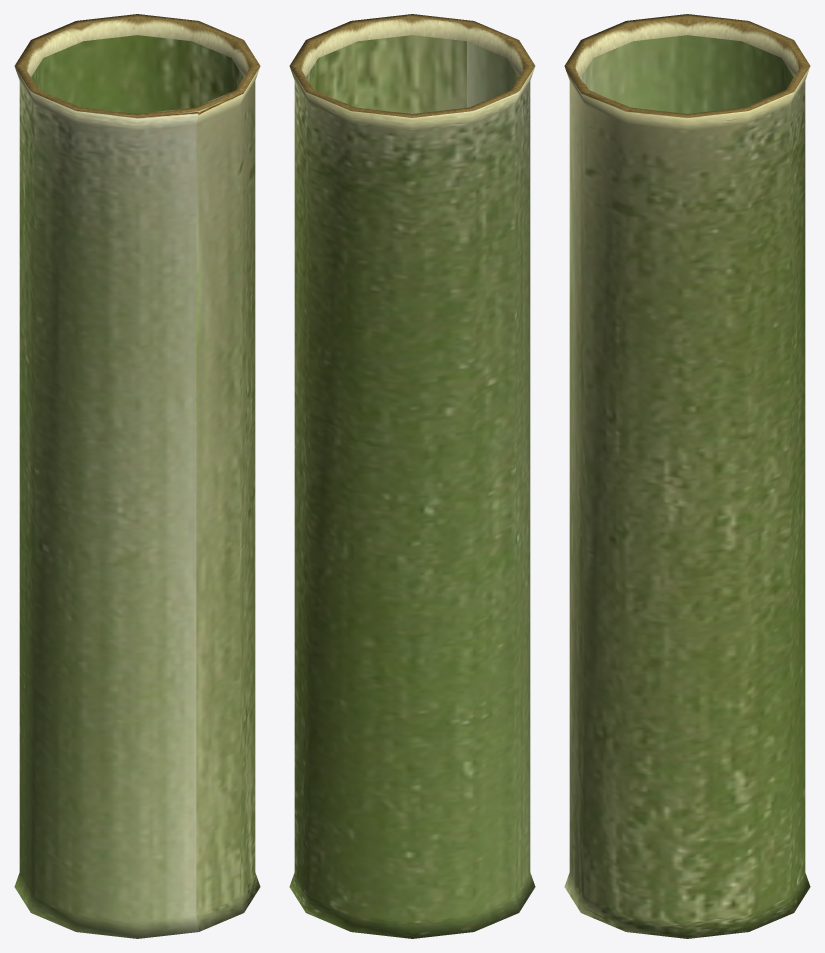
File: Quiver.fbx
3 renders of one model, left to right at view 1: azimuth 30°, elevation 25°; view 2: azimuth 150°, elevation 25°; view 3: azimuth 270°, elevation 25°, orthographic.
Parts seen in each view (by area): view 1: quiver; view 2: quiver; view 3: quiver.
Part boxes in pixels (x1,y1,x2,y2): quiver: (14, 14, 260, 938); quiver: (289, 14, 535, 938); quiver: (564, 14, 810, 938).
Size of the model in its own units: 54.34 by 200 by 54.34.
1 material, 1 textured.
